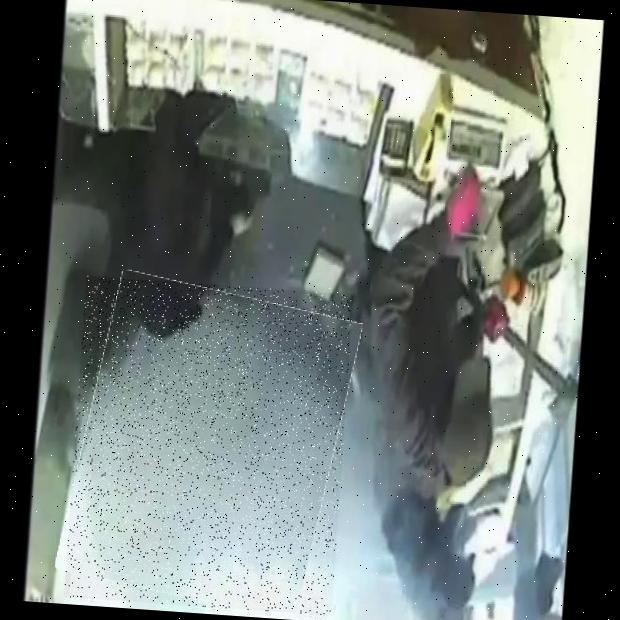smoke: (63, 275, 353, 615)
